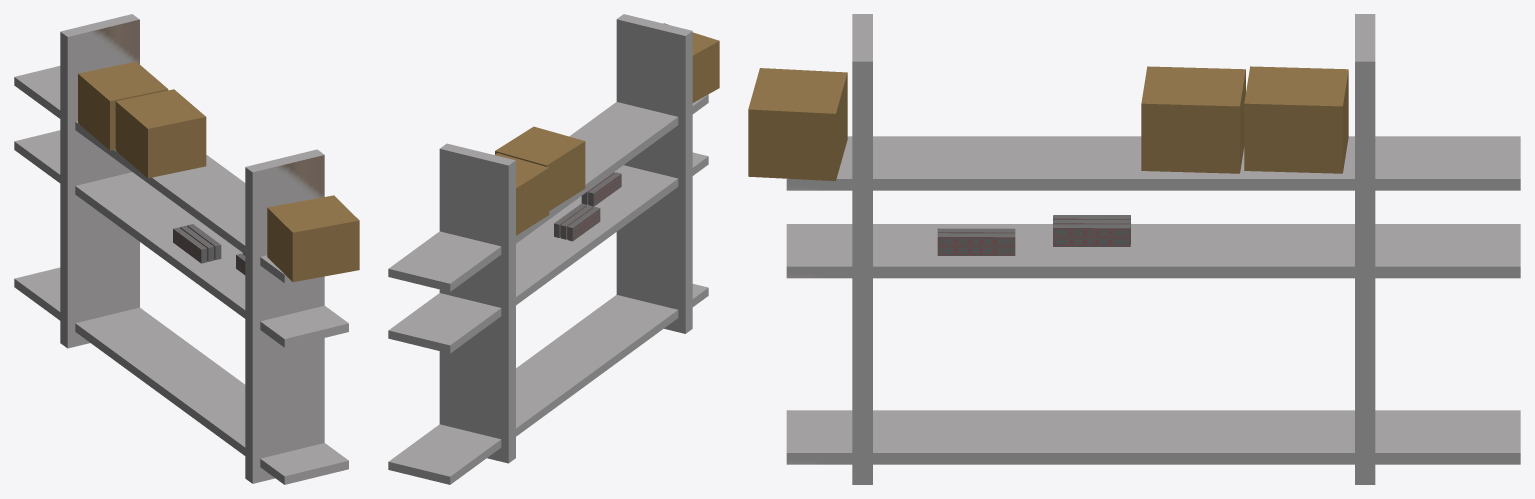
Rendered from Pantry02.fbx.
3 renders of one model, left to right at view 1: azimuth 30°, elevation 25°; view 2: azimuth 150°, elevation 25°; view 3: azimuth 270°, elevation 25°, orthographic. The views are drawn at different scales.
Visible parts, largest first — view 1: Cube.497; view 2: Cube.497; view 3: Cube.497.
Boxes of the visible parts, <box> form: Cube.497: <box>14,14,359,484</box>; Cube.497: <box>388,14,719,484</box>; Cube.497: <box>748,14,1520,484</box>.
Bounding box in the file's own units: 50.59 × 200 × 331.
